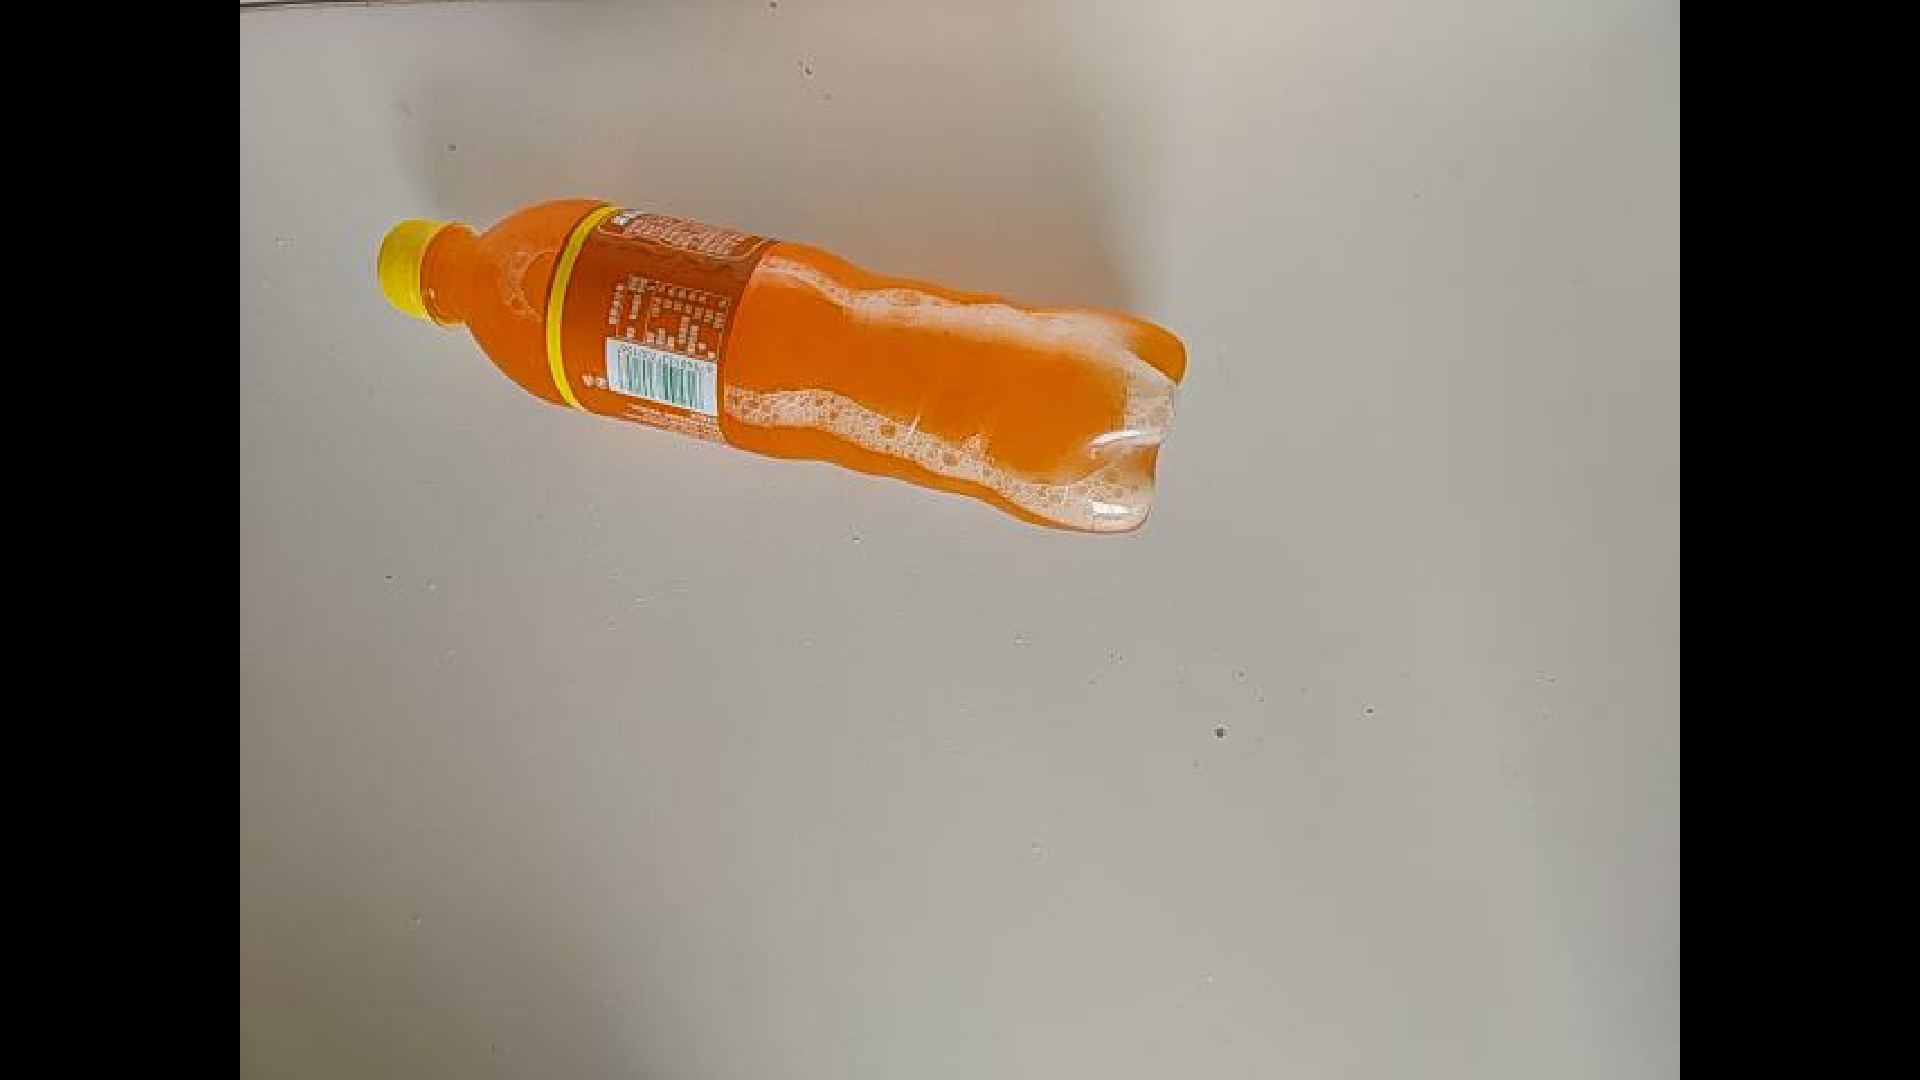fenta: (310, 149, 1201, 475)
